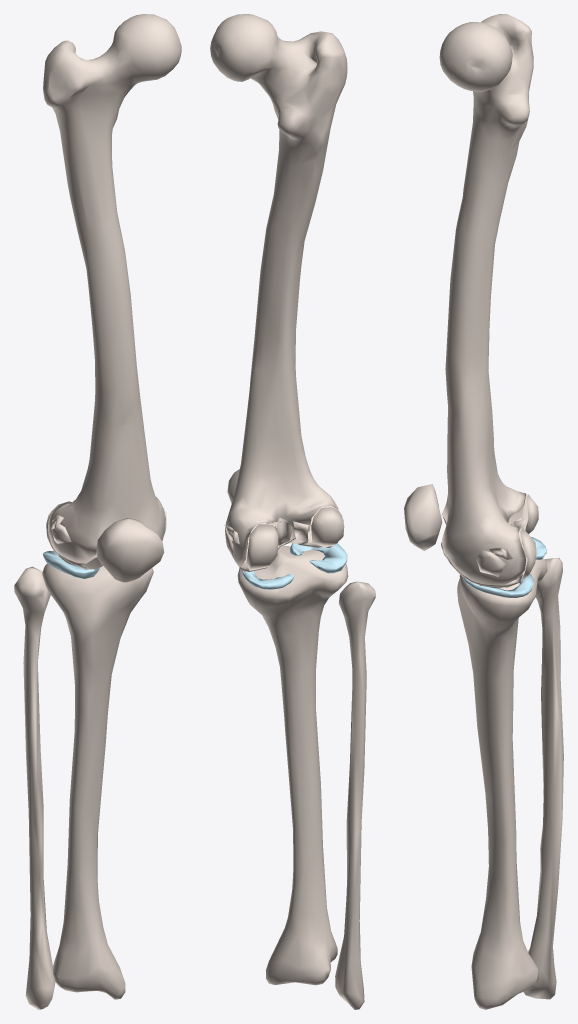
File: vh_f_knee_r-20.glb
3 renders of one model, left to right at view 1: azimuth 30°, elevation 25°; view 2: azimuth 210°, elevation 25°; view 3: azimuth 270°, elevation 25°, orthographic. The views are drawn at different scales.
Parts seen in each view (by area): view 1: VH_F_femur_R, VH_F_tibia_R, VH_F_fibula_R, VH_F_patella_R, VH_F_meniscus_R; view 2: VH_F_femur_R, VH_F_tibia_R, VH_F_fibula_R, VH_F_meniscus_R, VH_F_medial_condyle_of_right_femur_inf, VH_F_lateral_condyle_of_femur_inf_R, VH_F_articular_cartilage_of_knee_R; view 3: VH_F_femur_R, VH_F_tibia_R, VH_F_fibula_R, VH_F_patella_R, VH_F_meniscus_R, VH_F_medial_perichondular_surface_R, VH_F_articular_cartilage_of_knee_R, VH_F_medial_condyle_of_right_femur_inf.
Boxes of the visible parts, bbox=[...] form: VH_F_femur_R: bbox=[43, 14, 181, 562]; VH_F_tibia_R: bbox=[42, 563, 153, 999]; VH_F_fibula_R: bbox=[14, 566, 55, 1009]; VH_F_patella_R: bbox=[96, 518, 164, 582]; VH_F_meniscus_R: bbox=[43, 550, 147, 578]; VH_F_femur_R: bbox=[210, 14, 347, 567]; VH_F_tibia_R: bbox=[237, 545, 348, 985]; VH_F_fibula_R: bbox=[335, 581, 375, 1009]; VH_F_meniscus_R: bbox=[241, 543, 347, 589]; VH_F_medial_condyle_of_right_femur_inf: bbox=[246, 524, 278, 570]; VH_F_lateral_condyle_of_femur_inf_R: bbox=[311, 507, 344, 547]; VH_F_articular_cartilage_of_knee_R: bbox=[239, 506, 343, 571]; VH_F_femur_R: bbox=[439, 14, 533, 584]; VH_F_tibia_R: bbox=[457, 558, 547, 1009]; VH_F_fibula_R: bbox=[523, 558, 563, 999]; VH_F_patella_R: bbox=[404, 484, 442, 550]; VH_F_meniscus_R: bbox=[462, 537, 546, 597]; VH_F_medial_perichondular_surface_R: bbox=[476, 550, 505, 576]; VH_F_articular_cartilage_of_knee_R: bbox=[441, 493, 528, 587]; VH_F_medial_condyle_of_right_femur_inf: bbox=[520, 528, 536, 581].
Bounding box in the file's own units: 0.1014 × 0.772 × 0.1105.
